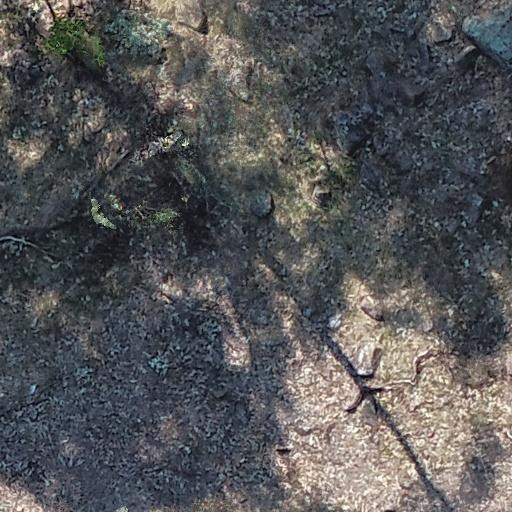stone: (349, 343, 382, 376), (173, 0, 206, 32), (249, 186, 275, 221), (454, 44, 483, 74), (360, 296, 386, 322), (399, 82, 425, 108), (365, 53, 394, 76), (344, 131, 369, 154), (477, 55, 499, 80), (430, 25, 456, 44), (312, 185, 334, 206)
